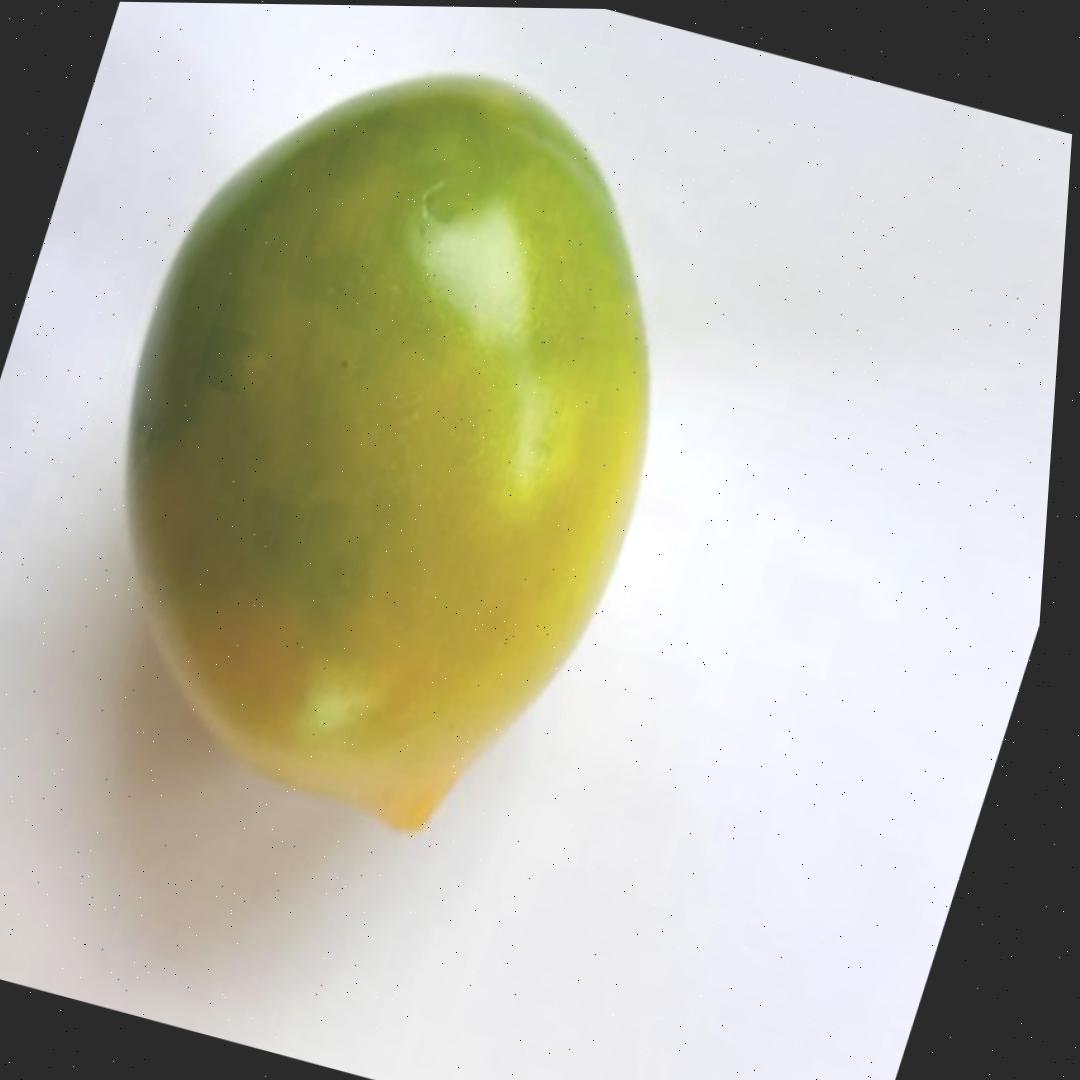setengah_matang: (2, 1, 764, 876)
